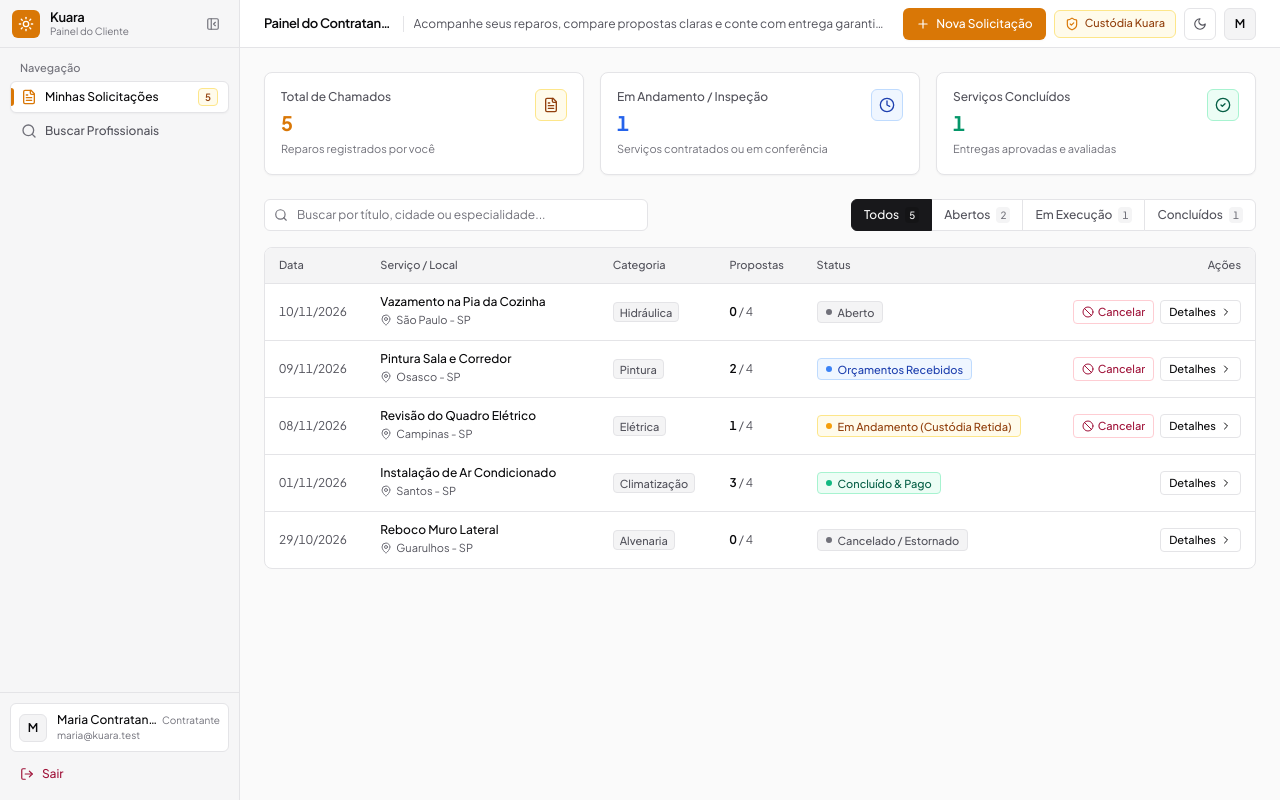
it: ClientDashboard Logic & Requirements Compliance › filters orders accurately via the status filter ButtonGroup
Expected: the link "Vazamento na Pia da Cozinha" is shown, x1=380 y1=294 x2=546 y2=310
Step 1. Click the button "Abertos 2" → (977, 214), box x1=931 y1=198 x2=1024 y2=230
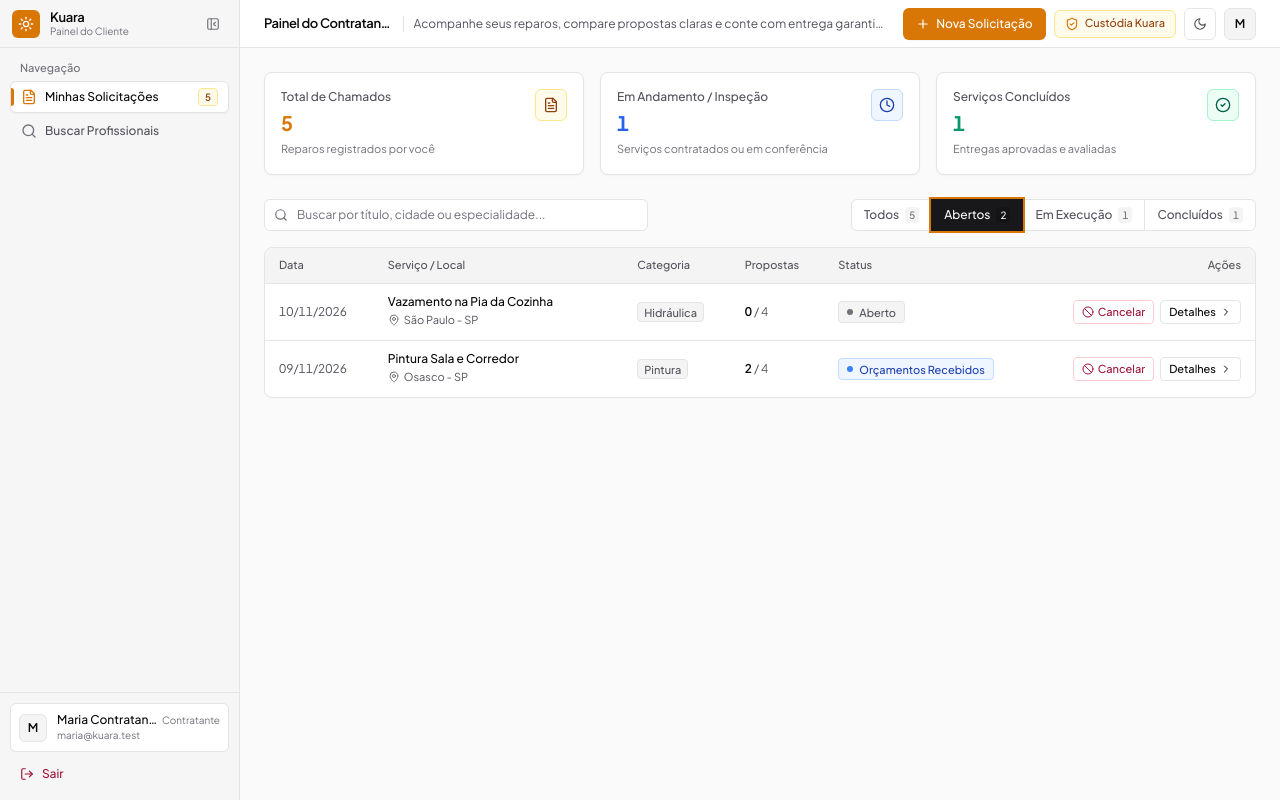
Expected: the link "Revisão do Quadro Elétrico" is gone
Expected: the link "Instalação de Ar Condicionado" is gone
Expected: the link "Reboco Muro Lateral" is gone
Step 2. Click the button "Em Execução 1" → (1084, 214), box x1=1022 y1=198 x2=1145 y2=230
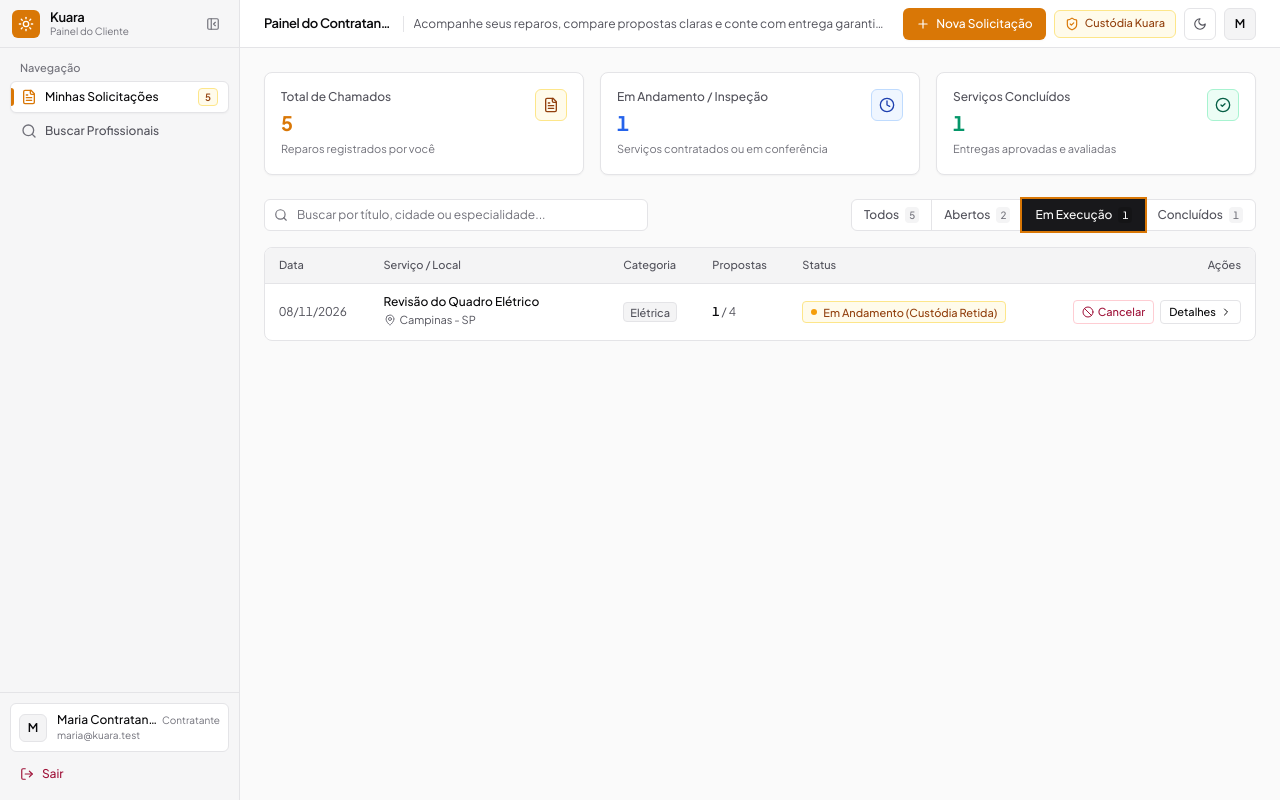
Expected: the link "Instalação de Ar Condicionado" is not shown
Expected: the link "Revisão do Quadro Elétrico" is shown, x1=384 y1=294 x2=539 y2=310
Expected: the link "Vazamento na Pia da Cozinha" is gone
Step 3. Click the button "Concluídos 1" → (1200, 214), box x1=1144 y1=198 x2=1256 y2=230
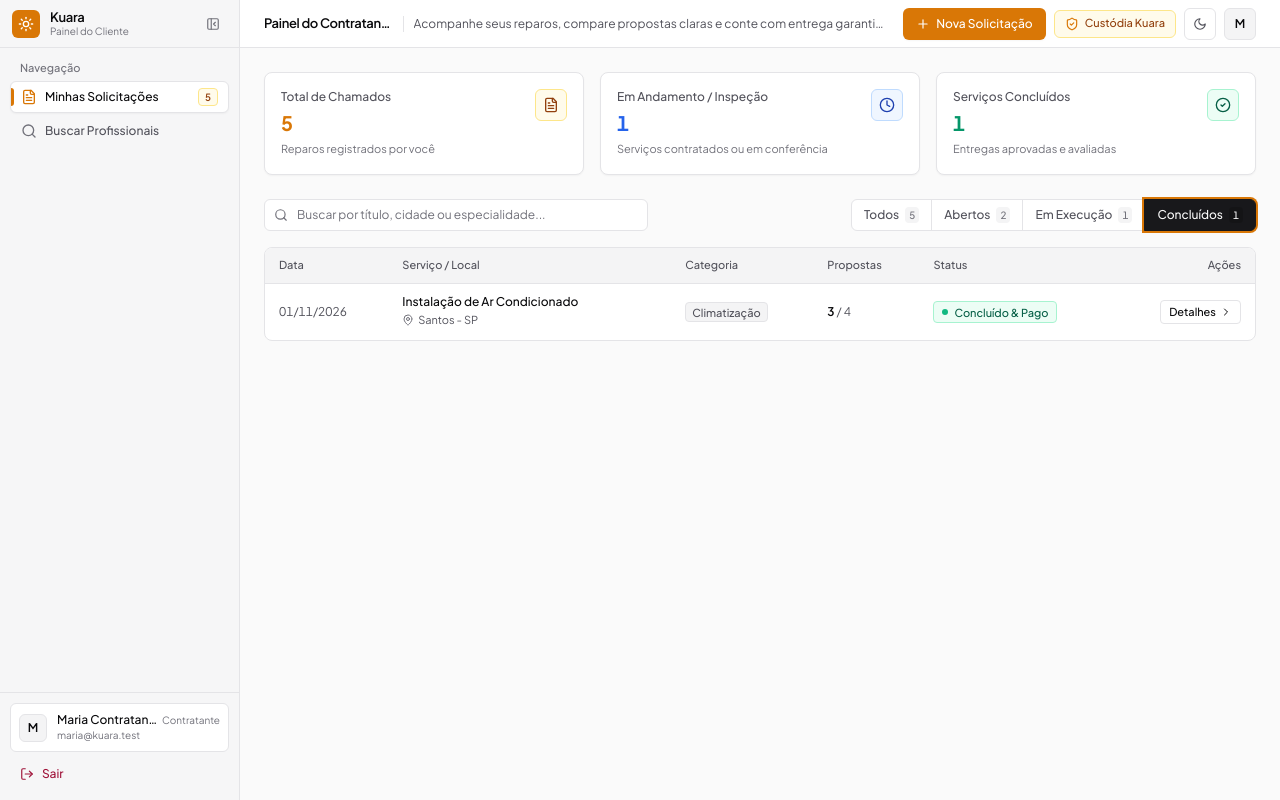
Expected: the link "Instalação de Ar Condicionado" is shown, x1=402 y1=294 x2=578 y2=310
Expected: the link "Revisão do Quadro Elétrico" is gone
Step 4. Click the button "Todos 5" → (892, 214), box x1=851 y1=198 x2=932 y2=230
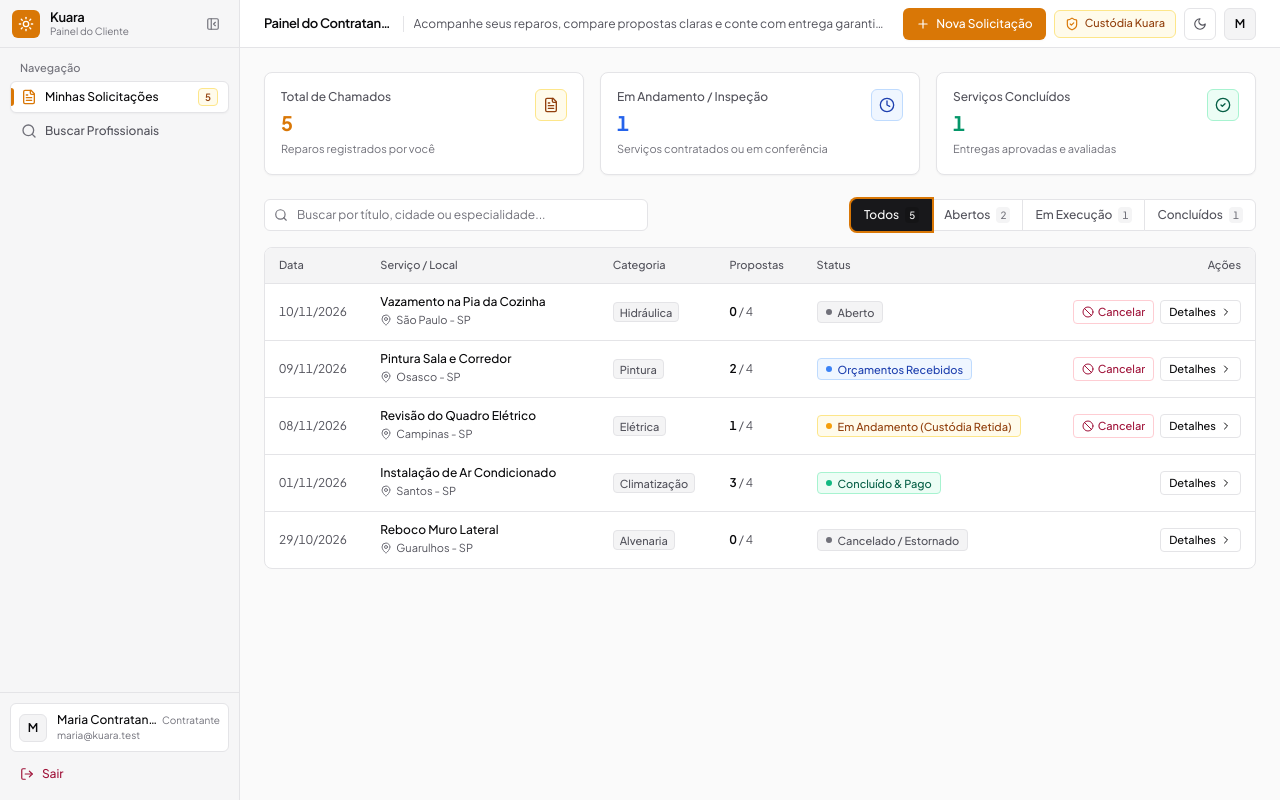
Expected: the link "Vazamento na Pia da Cozinha" is shown, x1=380 y1=294 x2=546 y2=310
Expected: the link "Reboco Muro Lateral" is shown, x1=380 y1=522 x2=499 y2=538
